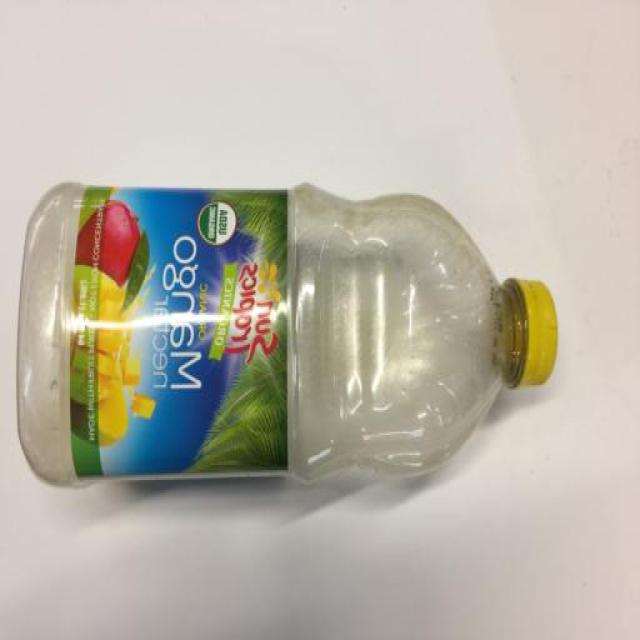Plastic: (15, 183, 558, 492)
